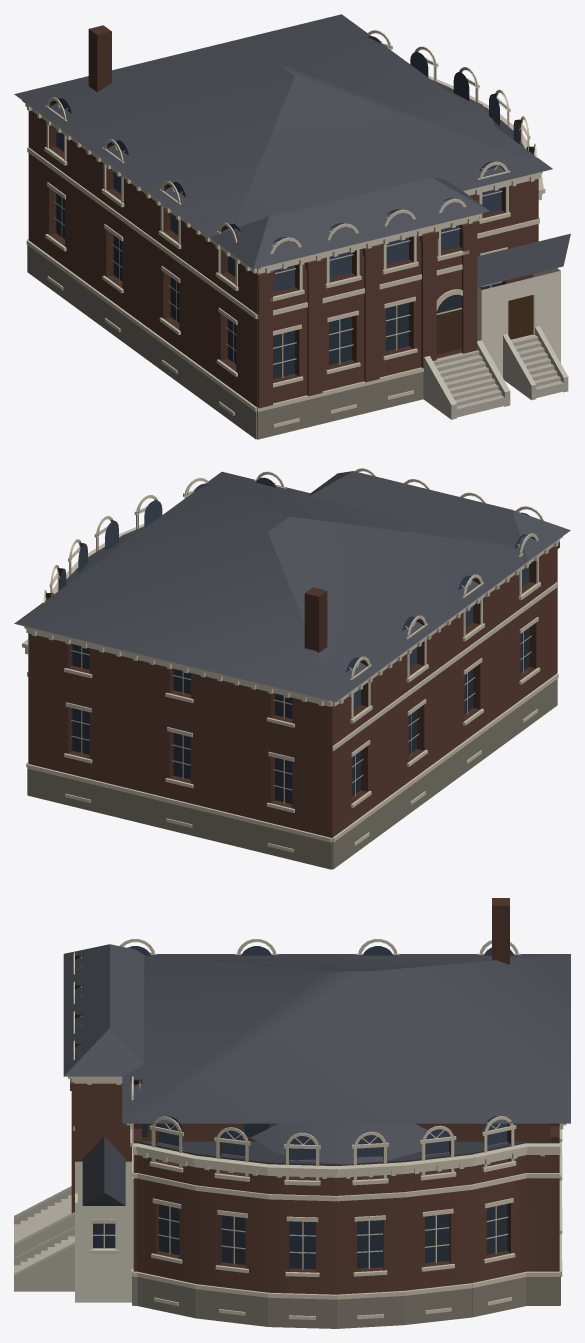
Rendered from ch-hunter-memorial-1961.glb.
3 views of the same model, one above another, from view 1: azimuth 30°, elevation 25°; view 2: azimuth 150°, elevation 25°; view 3: azimuth 270°, elevation 25° (orthographic). The views are drawn at different scales.
Visible parts, largest first — view 1: ch_roof, ch_brick, ch_trim, ch_base, ch_conc, ch_brick2, ch_glass, ch_wood, ch_stain, ch_roof2, ch_door, ch_lead; view 2: ch_roof, ch_brick, ch_base, ch_trim, ch_brick2, ch_glass, ch_stain, ch_lead; view 3: ch_roof, ch_brick, ch_trim, ch_base, ch_glass, ch_wood, ch_conc, ch_roof2, ch_brick2, ch_stain, ch_lead.
Boxes of the visible parts, x1,y1,x2,y2 form: ch_roof: (14, 14, 552, 269); ch_brick: (28, 110, 538, 408); ch_trim: (22, 30, 545, 427); ch_base: (27, 245, 423, 439); ch_conc: (423, 326, 568, 419); ch_brick2: (49, 25, 534, 383); ch_glass: (56, 193, 501, 378); ch_wood: (477, 268, 560, 377); ch_stain: (56, 36, 527, 292); ch_roof2: (431, 79, 570, 287); ch_door: (436, 295, 532, 354); ch_lead: (54, 41, 528, 377); ch_roof: (14, 471, 570, 702); ch_brick: (28, 542, 559, 837); ch_base: (27, 679, 557, 869); ch_trim: (22, 468, 562, 852); ch_brick2: (46, 477, 536, 808); ch_glass: (72, 628, 529, 804); ch_stain: (52, 477, 529, 709); ch_lead: (51, 478, 531, 803); ch_roof: (63, 944, 570, 1164); ch_brick: (70, 1079, 559, 1294); ch_trim: (68, 939, 566, 1319); ch_base: (132, 1276, 560, 1328); ch_glass: (93, 1123, 507, 1269); ch_wood: (75, 1161, 133, 1302); ch_conc: (14, 1186, 74, 1291); ch_roof2: (82, 1136, 559, 1205); ch_brick2: (75, 898, 559, 1272); ch_stain: (127, 946, 514, 1159); ch_lead: (81, 949, 511, 1269).
Size of the model in its own units: 20.04 by 13.04 by 24.7.
